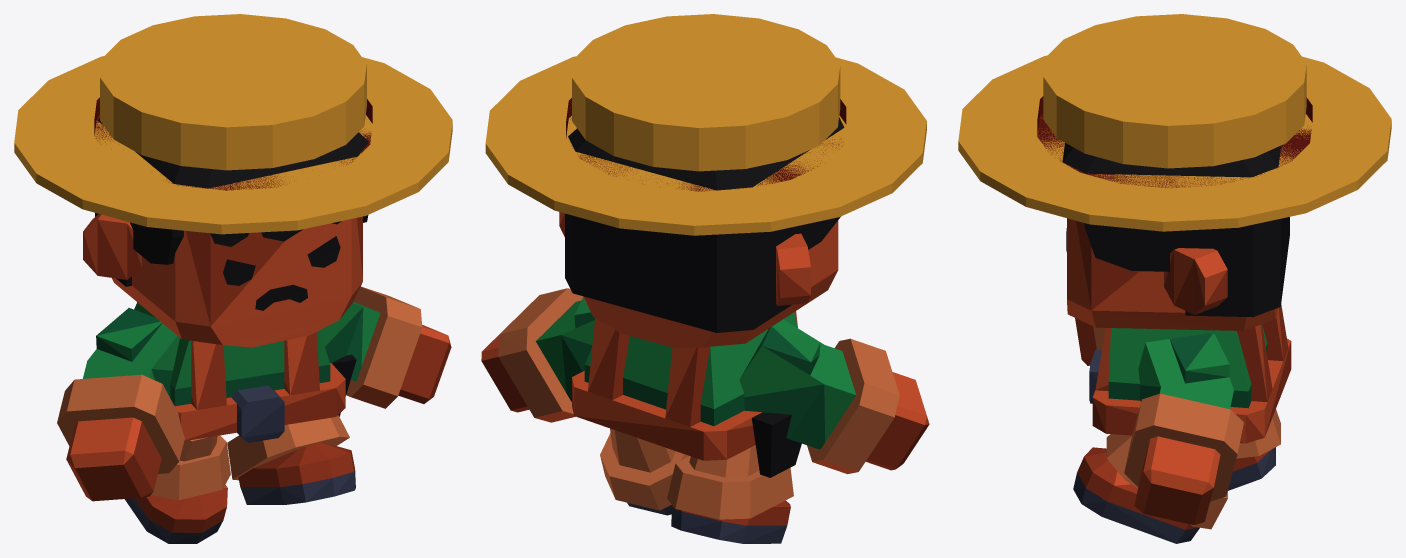
File: Boy_walk_3.obj
The picture shows the model from 3 angles, left to right: view 1: azimuth 30°, elevation 25°; view 2: azimuth 150°, elevation 25°; view 3: azimuth 270°, elevation 25°; orthographic projection.
Parts seen in each view (by area): view 1: Boy; view 2: Boy; view 3: Boy.
Boxes of the visible parts, x1,y1,x2,y2 form: Boy: (14,14,452,543); Boy: (481,14,929,543); Boy: (958,14,1391,543).
Size of the model in its own units: 0.7042 by 0.7647 by 0.6664.
